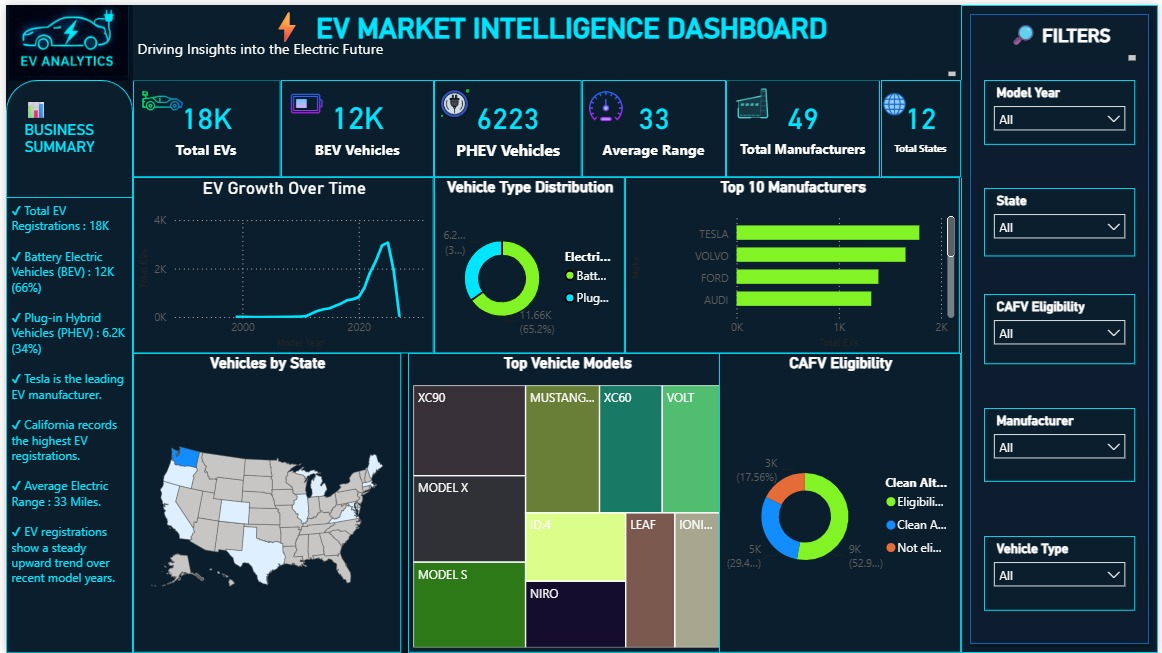

This screenshot's page, from the dashboard's own definition file:
{"tool":"powerbi","page":{"name":"Page 1","canvas":[1280,720],"ordinal":0},"visuals":[{"type":"shape","box":[1061.1,0,218.9,720],"z":0},{"type":"advanceCardE03760C5AB684758B56AA29F9E6C257B","fields":{"mainMeasure":["EV_Data.Total EVs"]},"box":[141,83.6,164.4,108],"z":1000},{"type":"advanceCardE03760C5AB684758B56AA29F9E6C257B","fields":{"mainMeasure":["EV_Data.Total Manufacturers"]},"box":[800.5,83.6,171.2,108],"z":2000},{"type":"shape","box":[282.1,0,641,46.7],"z":3000},{"type":"textbox","title":"⚡ EV MARKET INTELLIGENCE DASHBOARD","box":[141,0,919.1,83.6],"z":4000},{"type":"image","box":[0,0,141,83.6],"z":5000},{"type":"advanceCardE03760C5AB684758B56AA29F9E6C257B","fields":{"mainMeasure":["EV_Data.BEV Vehicles"]},"box":[305.4,83.6,170.2,108],"z":6000},{"type":"image","box":[149.8,76.8,47.7,53.5],"z":7000},{"type":"image","box":[305.4,89.5,57.4,38.9],"z":8000},{"type":"image","box":[800.5,87.5,59.3,42.8],"z":9000},{"type":"advanceCardE03760C5AB684758B56AA29F9E6C257B","fields":{"mainMeasure":["EV_Data.Average Range"]},"box":[640,83.6,160.5,108],"z":10000},{"type":"advanceCardE03760C5AB684758B56AA29F9E6C257B","fields":{"mainMeasure":["EV_Data.Total States"]},"box":[971.7,83.6,88.5,108],"z":11000},{"type":"advanceCardE03760C5AB684758B56AA29F9E6C257B","fields":{"mainMeasure":["EV_Data.PHEV Vehicles"]},"box":[475.6,83.6,164.4,108],"z":12000},{"type":"image","box":[475.6,89.5,47.7,38.9],"z":13000},{"type":"image","box":[640,92.4,55.4,45.7],"z":14000},{"type":"image","box":[971.7,92.4,30.2,36],"z":15000},{"type":"lineChart","title":"EV Growth Over Time","fields":{"Category":["EV_Data.Model Year"],"Y":["EV_Data.Total EVs"]},"box":[141.1,191.1,334.4,195.6],"z":16000},{"type":"donutChart","title":"Vehicle Type Distribution","fields":{"Category":["EV_Data.Electric Vehicle Type"],"Y":["EV_Data.Total EVs"]},"box":[475.6,191.1,212.2,195.6],"z":17000},{"type":"clusteredBarChart","title":"Top 10 Manufacturers","fields":{"Category":["EV_Data.Make"],"Y":["EV_Data.Total EVs"]},"box":[687.8,191.1,372.2,195.6],"z":18000},{"type":"shapeMap","title":"Vehicles by State","fields":{"Category":["EV_Data.State"],"Value":["EV_Data.Total EVs"]},"box":[141.1,386.7,297.8,333.3],"z":19000},{"type":"treemap","title":"Top Vehicle Models","fields":{"Group":["EV_Data.Model"],"Values":["EV_Data.Total EVs"]},"box":[446.7,386.7,353.3,333.3],"z":20000},{"type":"donutChart","title":"CAFV Eligibility","fields":{"Category":["EV_Data.Clean Alternative Fuel Vehicle (CAFV) Eligibility"],"Y":["EV_Data.Total EVs"]},"box":[792.2,386.7,268.9,333.3],"z":21000},{"type":"textbox","title":"🔎 FILTERS","box":[1082.2,16.7,177.8,50],"z":22000},{"type":"slicer","fields":{"Values":["EV_Data.Model Year"]},"box":[1086.7,83.3,167.8,72.2],"z":23000},{"type":"slicer","fields":{"Values":["EV_Data.State"]},"box":[1086.7,203.3,167.8,75.6],"z":24000},{"type":"slicer","fields":{"Values":["EV_Data.Clean Alternative Fuel Vehicle (CAFV) Eligibility"]},"box":[1086.7,321.1,167.8,77.8],"z":25000},{"type":"slicer","fields":{"Values":["EV_Data.Make"]},"box":[1086.7,447.8,167.8,82.2],"z":26000},{"type":"slicer","fields":{"Values":["EV_Data.Electric Vehicle Type"]},"box":[1086.7,590,167.8,83.3],"z":27000},{"type":"shape","box":[0,83.3,141.1,636.7],"z":28000},{"type":"textbox","title":"📊 BUSINESS SUMMARY","box":[15.6,103.3,107.8,72.2],"z":29000},{"type":"textbox","box":[0,213.3,141.1,506.7],"z":30000}]}

Visuals, with their boxes in screenshot pixels (x1, y1, x2, y2), scaled from the page's 1280x720 canvas onto the 1162x653 screenshot:
shape: 963/0/1161/652
advanceCardE03760C5AB684758B56AA29F9E6C257B - EV_Data.Total EVs: 128/76/277/174
advanceCardE03760C5AB684758B56AA29F9E6C257B - EV_Data.Total Manufacturers: 727/76/882/174
shape: 256/0/838/42
"⚡ EV MARKET INTELLIGENCE DASHBOARD" textbox: 128/0/962/76
image: 0/0/128/76
advanceCardE03760C5AB684758B56AA29F9E6C257B - EV_Data.BEV Vehicles: 277/76/432/174
image: 136/70/179/118
image: 277/81/329/116
image: 727/79/781/118
advanceCardE03760C5AB684758B56AA29F9E6C257B - EV_Data.Average Range: 581/76/727/174
advanceCardE03760C5AB684758B56AA29F9E6C257B - EV_Data.Total States: 882/76/962/174
advanceCardE03760C5AB684758B56AA29F9E6C257B - EV_Data.PHEV Vehicles: 432/76/581/174
image: 432/81/475/116
image: 581/84/631/125
image: 882/84/910/116
"EV Growth Over Time" lineChart: 128/173/432/351
"Vehicle Type Distribution" donutChart: 432/173/624/351
"Top 10 Manufacturers" clusteredBarChart: 624/173/962/351
"Vehicles by State" shapeMap: 128/351/398/652
"Top Vehicle Models" treemap: 406/351/726/652
"CAFV Eligibility" donutChart: 719/351/963/652
"🔎 FILTERS" textbox: 982/15/1144/60
slicer - EV_Data.Model Year: 987/76/1139/141
slicer - EV_Data.State: 987/184/1139/253
slicer - EV_Data.Clean Alternative Fuel Vehicle (CAFV) Eligibility: 987/291/1139/362
slicer - EV_Data.Make: 987/406/1139/481
slicer - EV_Data.Electric Vehicle Type: 987/535/1139/611
shape: 0/76/128/652
"📊 BUSINESS SUMMARY" textbox: 14/94/112/159
textbox: 0/193/128/652
